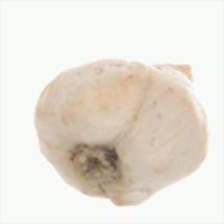L3: (159, 60, 195, 87)
L4: (35, 58, 208, 207)
